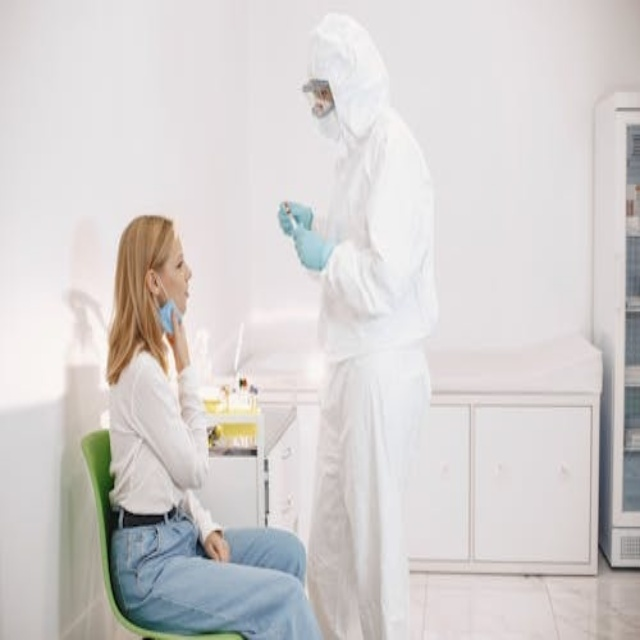Gafas: (302, 79, 331, 99)
Guantes: (288, 224, 335, 273), (278, 200, 314, 235)
Mascara: (311, 94, 346, 144)
Sin_gafas: (161, 246, 191, 279)
Sin_guantes: (164, 306, 192, 367), (205, 519, 233, 565)
Sin_mascara: (170, 281, 193, 308)
